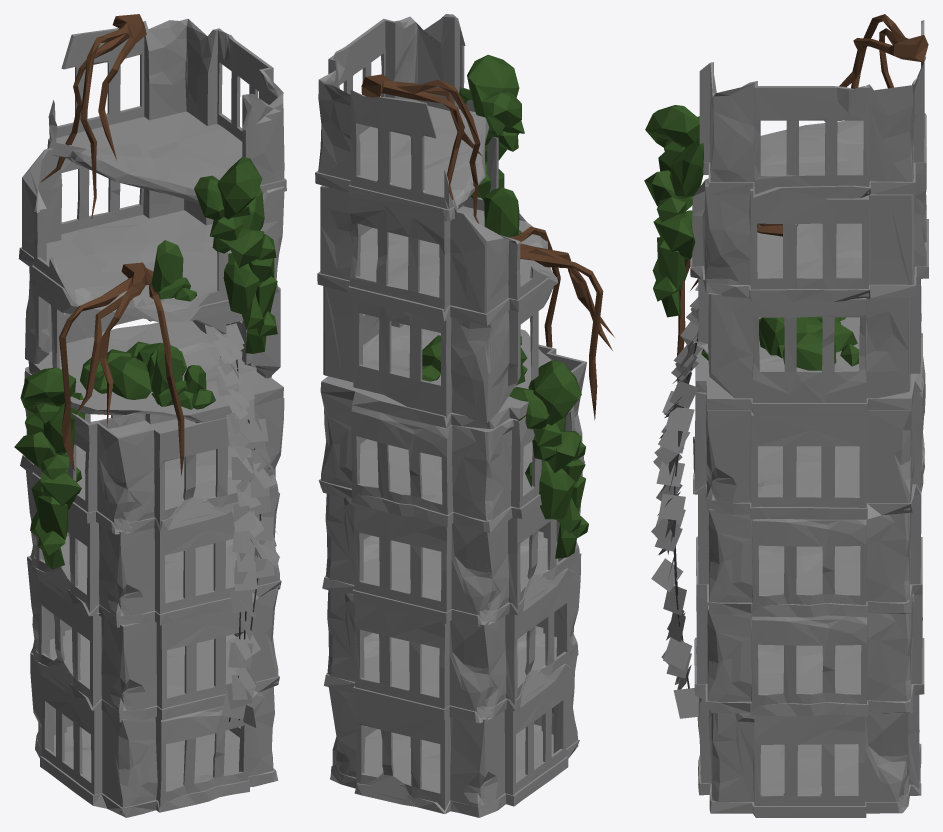
File: SM_building_overgrown_02.fbx
3 renders of one model, left to right at view 1: azimuth 30°, elevation 25°; view 2: azimuth 150°, elevation 25°; view 3: azimuth 270°, elevation 25°, orthographic. The views are drawn at different scales.
Parts seen in each view (by area): view 1: Object14226; view 2: Object14226; view 3: Object14226.
Boxes of the visible parts, box(x1,y1,x2,y2) form: Object14226: box(14, 14, 286, 817); Object14226: box(315, 14, 614, 817); Object14226: box(644, 14, 928, 817).
Size of the model in its own units: 408 by 1218 by 420.
